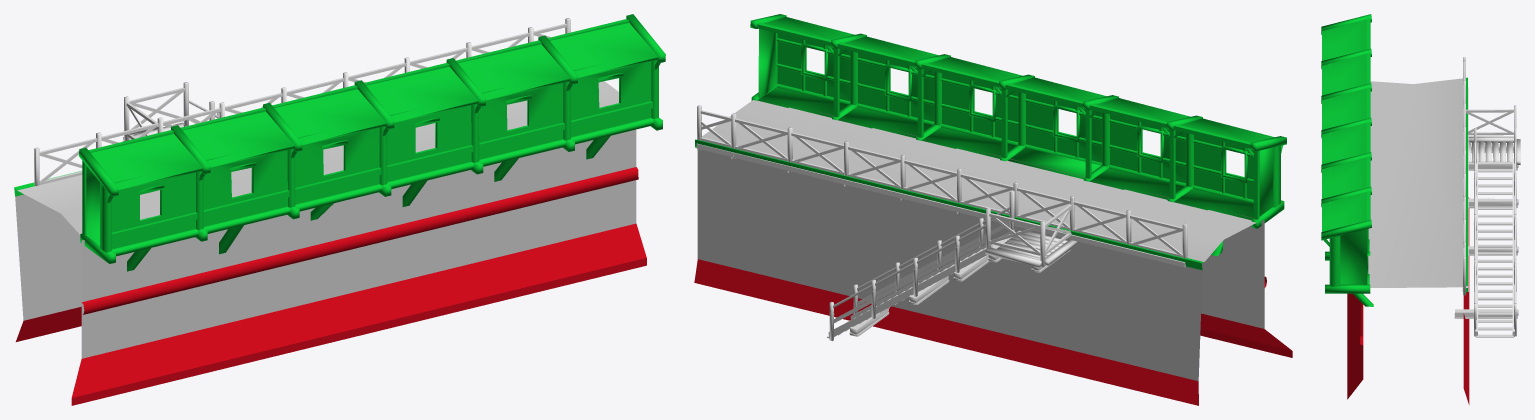
File: Wall_4v2 (2).fbx
3 views of the same model, side by side, from view 1: azimuth 30°, elevation 25°; view 2: azimuth 150°, elevation 25°; view 3: azimuth 270°, elevation 25° (orthographic). The views are drawn at different scales.
Parts seen in each view (by area): view 1: Group_4.015, Group_4.028, Group_3.012, Group_3.013; view 2: Group_4.015, Group_4.028, Group_3.012, Group_3.013, Group_3.011; view 3: Group_4.015, Group_4.028, Group_3.013, Group_3.012.
Part boxes in pixels (<box>): Group_4.015: <box>14,81,646,405</box>; Group_4.028: <box>79,14,665,271</box>; Group_3.012: <box>34,18,570,186</box>; Group_3.013: <box>122,82,219,141</box>; Group_4.015: <box>694,100,1292,405</box>; Group_4.028: <box>750,14,1286,256</box>; Group_3.012: <box>696,105,1187,267</box>; Group_3.013: <box>827,190,1077,340</box>; Group_3.011: <box>1015,187,1071,239</box>; Group_4.015: <box>1347,77,1469,404</box>; Group_4.028: <box>1321,14,1373,306</box>; Group_3.013: <box>1454,105,1520,337</box>; Group_3.012: <box>1462,57,1468,295</box>.
Bounding box in the file's own units: 1937 × 768 × 753.
